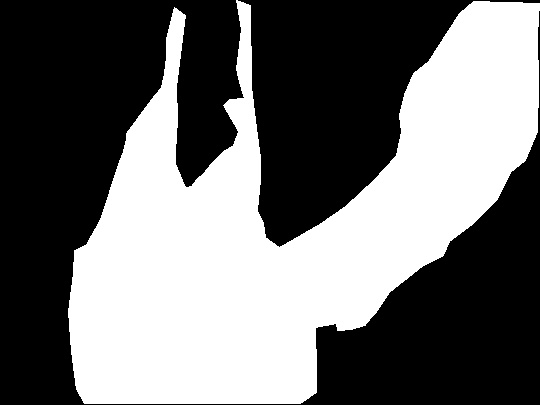Fire: (331, 41, 540, 338), (80, 151, 318, 402)
